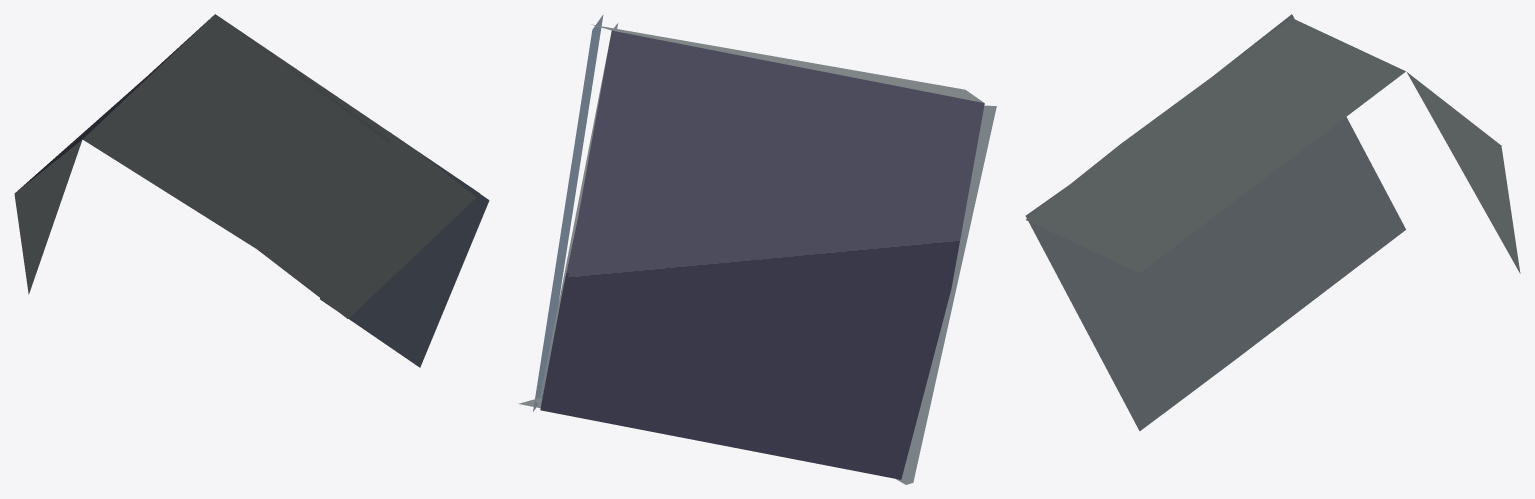
Rendered from tile_LOD3_r5_c7.glb.
3 renders of one model, left to right at view 1: azimuth 30°, elevation 25°; view 2: azimuth 150°, elevation 25°; view 3: azimuth 270°, elevation 25°, orthographic. The views are drawn at different scales.
Size of the model in its own units: 11.25 by 11.25 by 13.
Materials: 5 (2 with a texture image).
